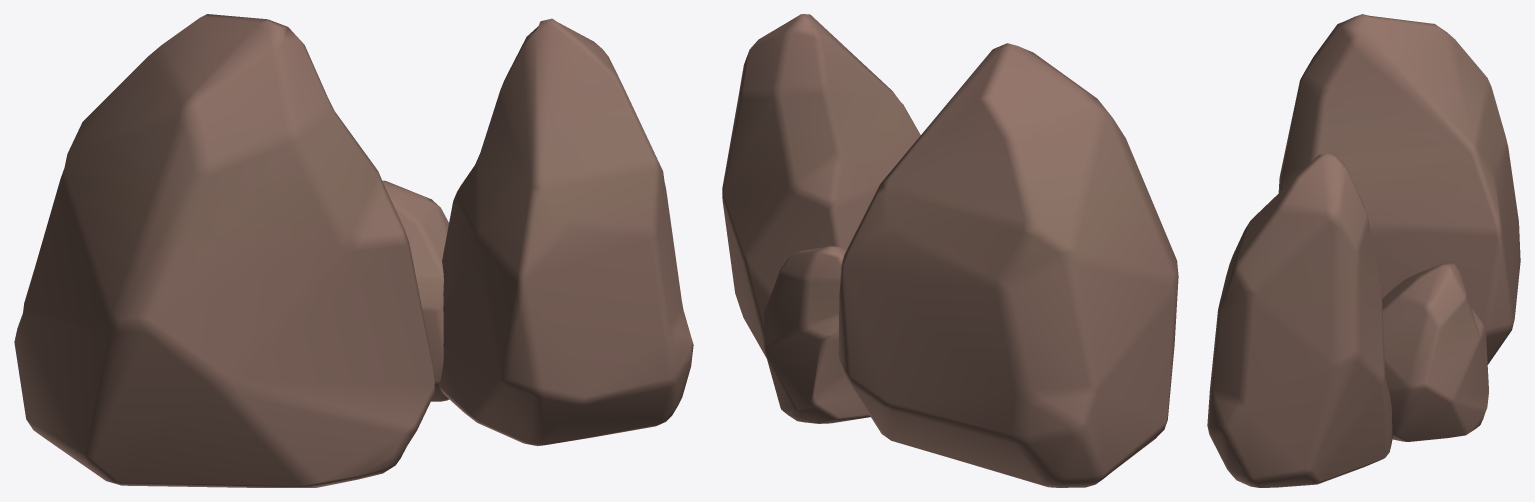
Rendered from rock-05.glb.
3 views of the same model, side by side, from view 1: azimuth 30°, elevation 25°; view 2: azimuth 150°, elevation 25°; view 3: azimuth 270°, elevation 25° (orthographic). The views are drawn at different scales.
Parts seen in each view (by area): view 1: rock 05; view 2: rock 05; view 3: rock 05.
Part boxes in pixels (left/top/right/bottom): rock 05: left=14, top=14, right=693, bottom=487; rock 05: left=722, top=14, right=1178, bottom=487; rock 05: left=1207, top=14, right=1520, bottom=487.
Size of the model in its own units: 2.01 by 1.55 by 1.27.
1 material, 1 textured.
